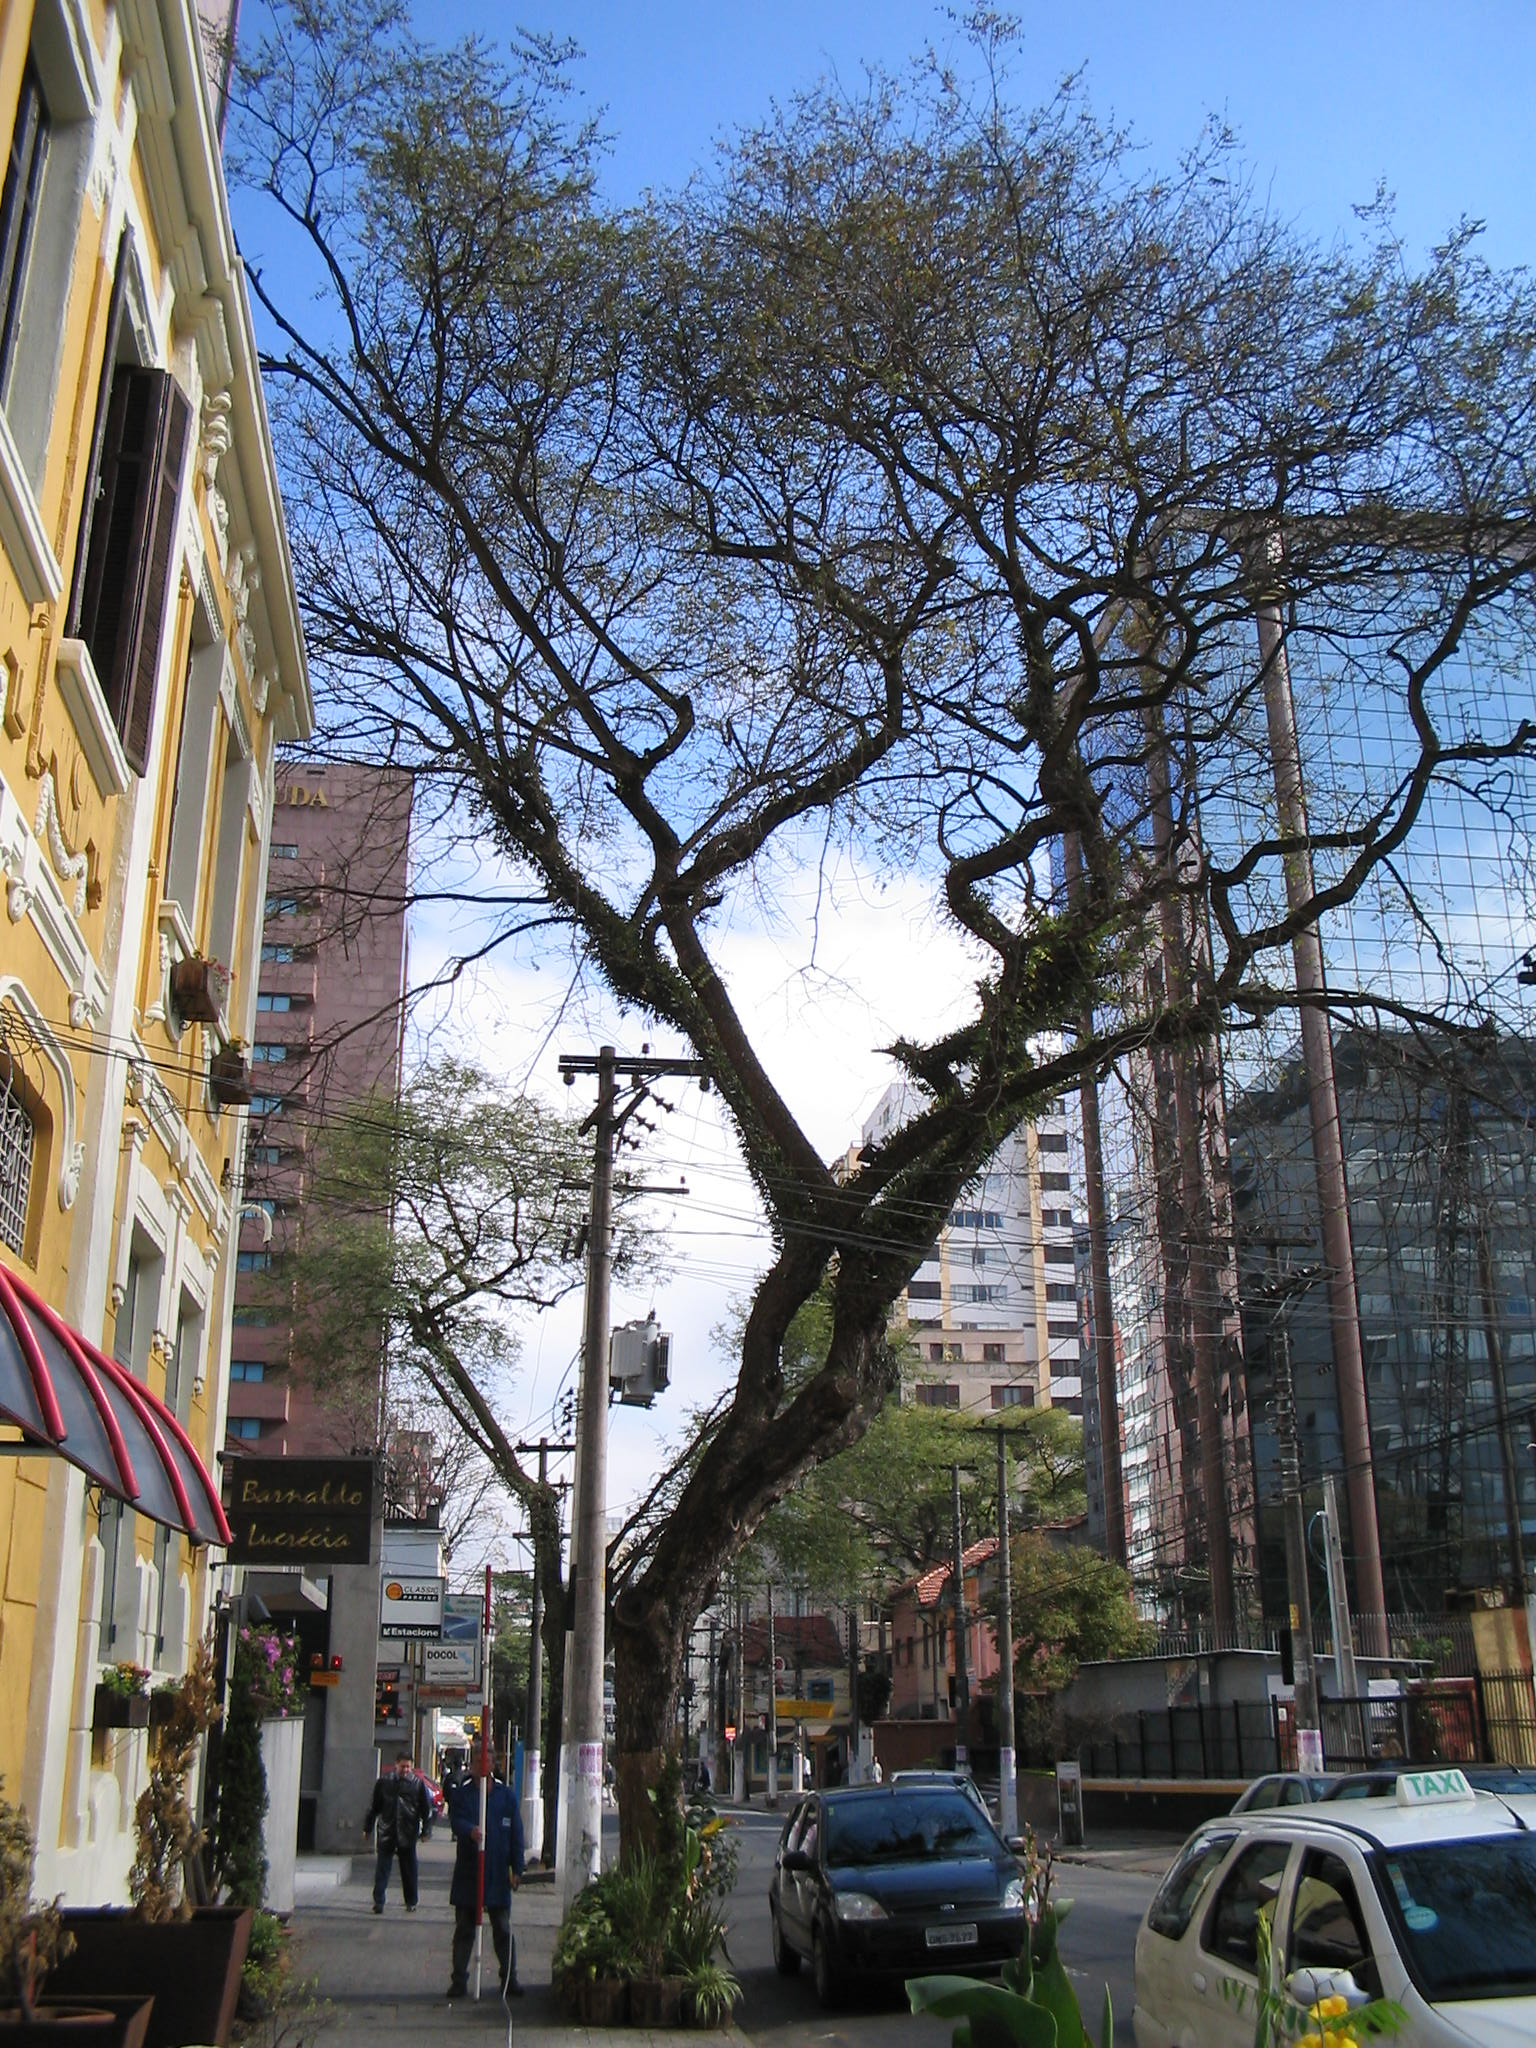stem: (565, 1451, 781, 1980)
stick: (465, 1559, 505, 2001)
tree: (231, 3, 1536, 1977)
